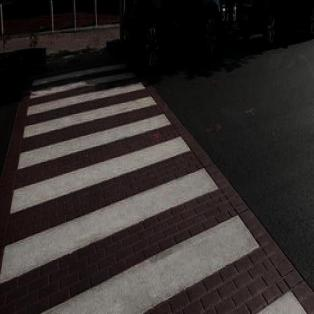Paso de Cebra: (0, 129, 232, 297), (24, 69, 148, 120)
